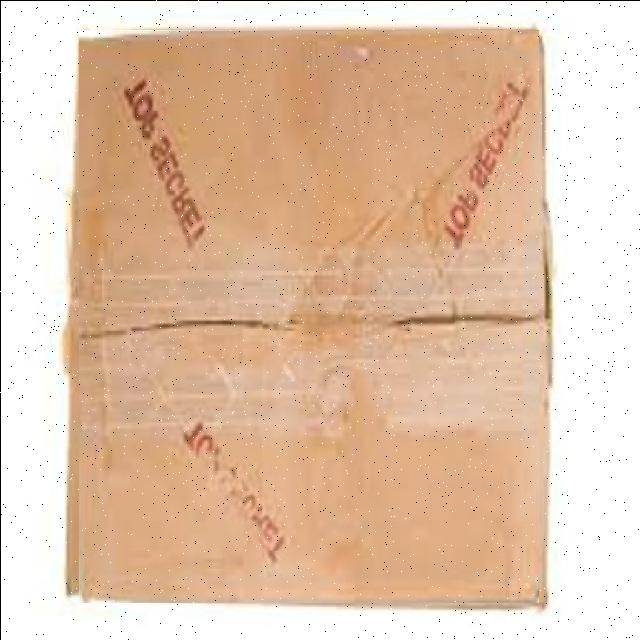normal: (79, 29, 538, 602)
